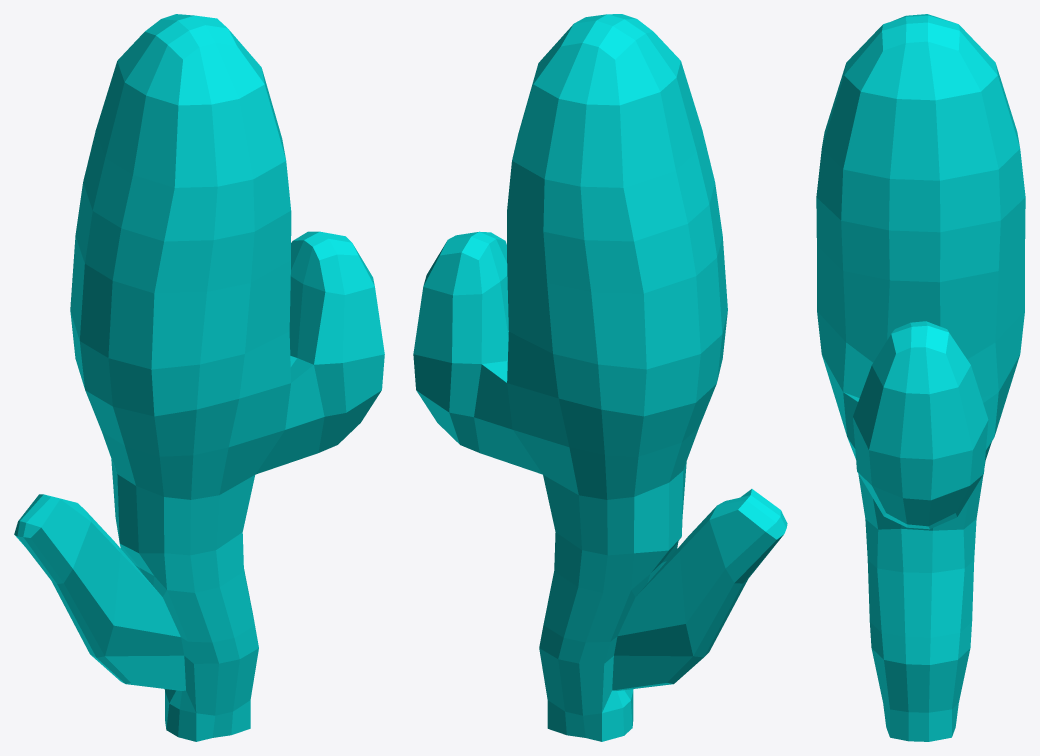
File: Tree_Cactus_01.fbx
3 renders of one model, left to right at view 1: azimuth 30°, elevation 25°; view 2: azimuth 150°, elevation 25°; view 3: azimuth 270°, elevation 25°, orthographic.
Parts seen in each view (by area): view 1: Cactus_01; view 2: Cactus_01; view 3: Cactus_01.
Boxes of the visible parts, x1,y1,x2,y2 form: Cactus_01: (14, 14, 384, 741); Cactus_01: (413, 14, 787, 741); Cactus_01: (816, 14, 1025, 741).
Bounding box in the file's own units: 165 × 311 × 84.6.
